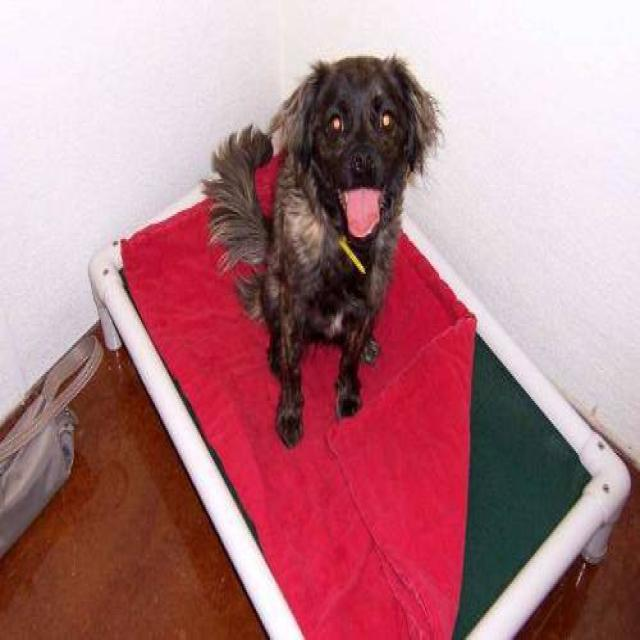dog: (200, 52, 444, 447)
